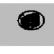correct: (12, 10, 48, 32)
